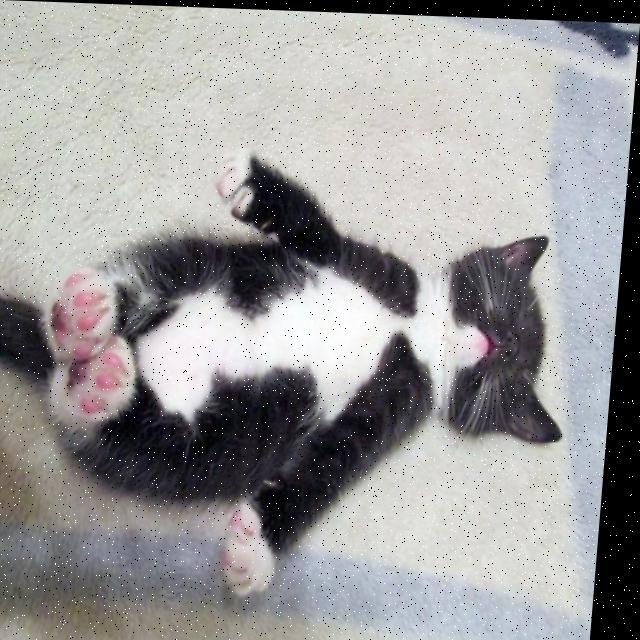Cats: (0, 108, 594, 605)
